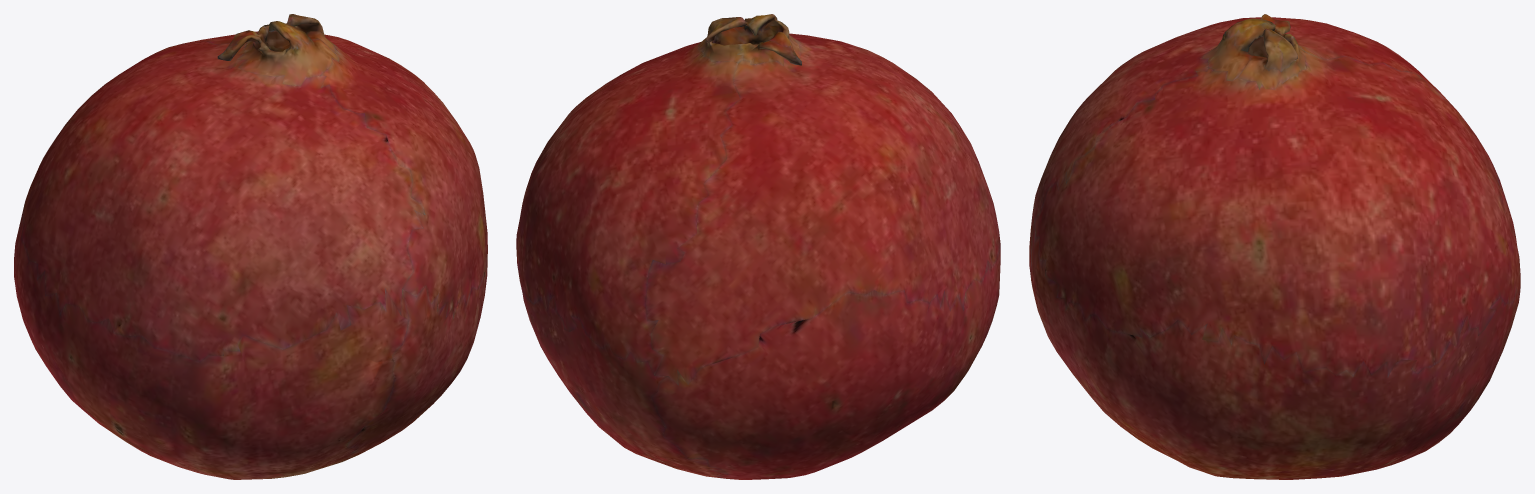
Rendered from food_pomegranate_01.glb.
3 views of the same model, side by side, from view 1: azimuth 30°, elevation 25°; view 2: azimuth 150°, elevation 25°; view 3: azimuth 270°, elevation 25° (orthographic). The views are drawn at different scales.
Parts seen in each view (by area): view 1: food_pomegranate; view 2: food_pomegranate; view 3: food_pomegranate.
Boxes of the visible parts, <box> form: food_pomegranate: <box>14,14,487,479</box>; food_pomegranate: <box>516,14,1000,479</box>; food_pomegranate: <box>1029,14,1520,479</box>.
Bounding box in the file's own units: 0.1143 × 0.115 × 0.1154.
Materials: 1 (1 with a texture image).
